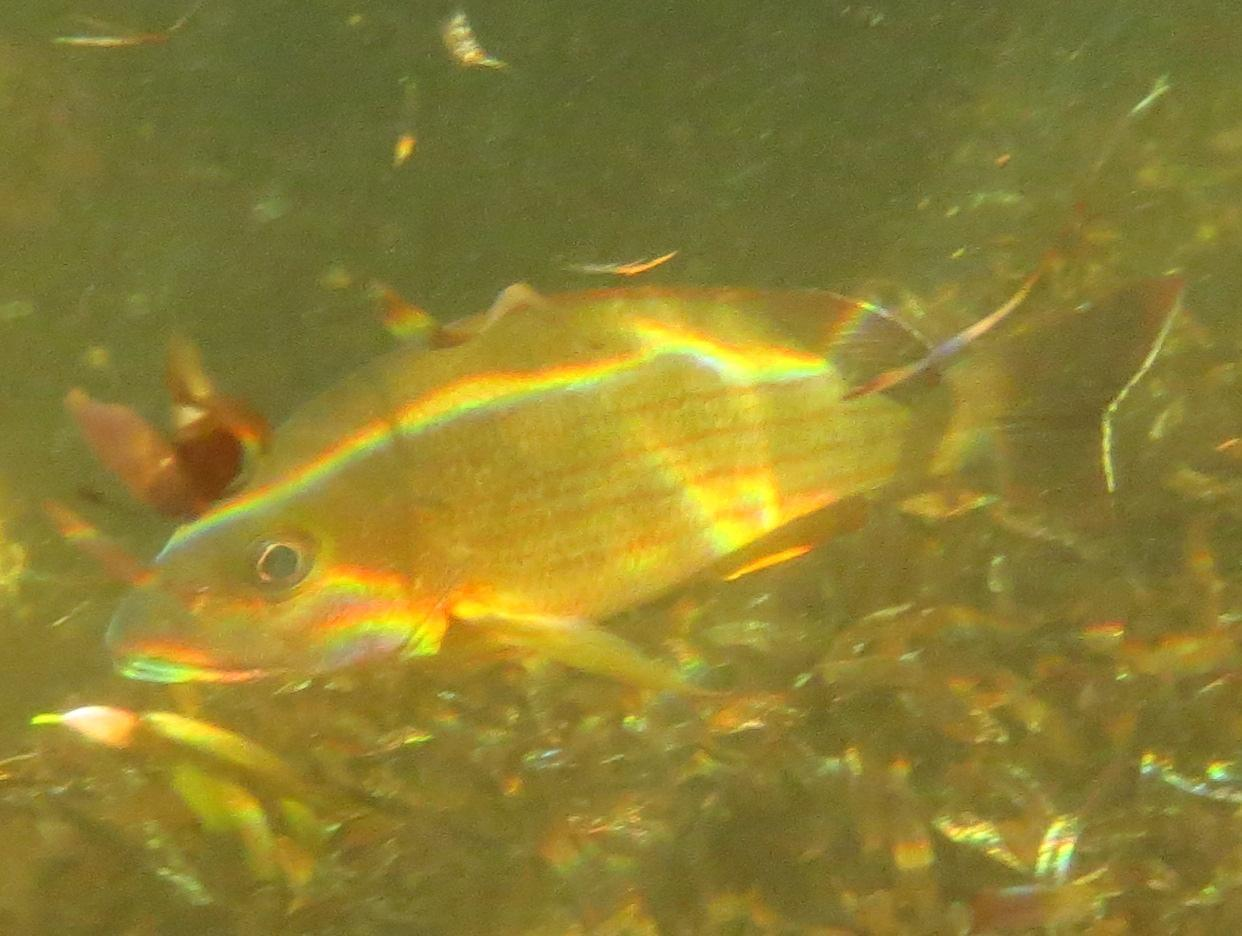Fish: (88, 260, 1198, 698)
